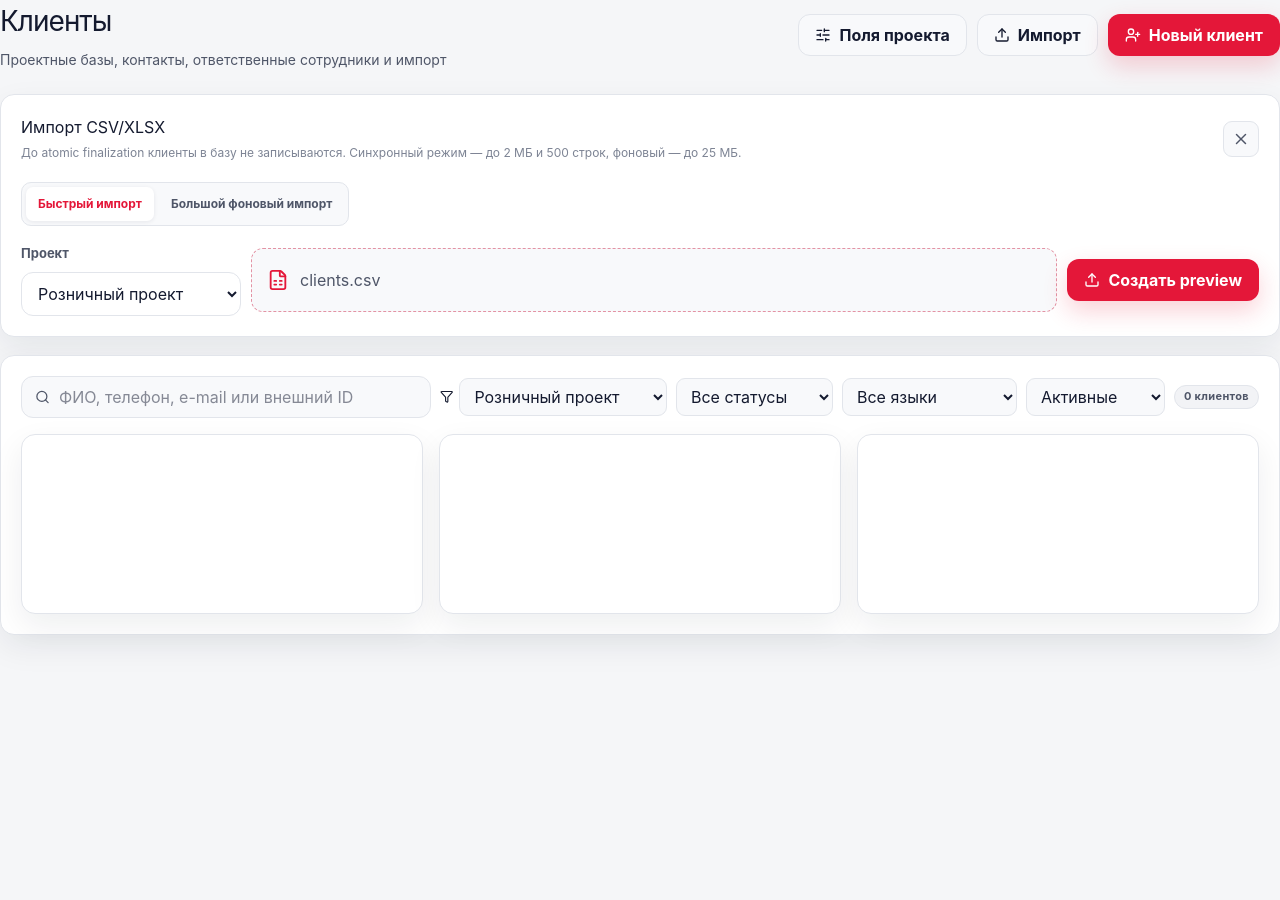
it: customer workspace › uploads a CSV as FormData and renders preview status
Earlier steps of the test are not shown.
Click the button "Создать preview".
click(1163, 280)  # box [1067,259,1259,301]
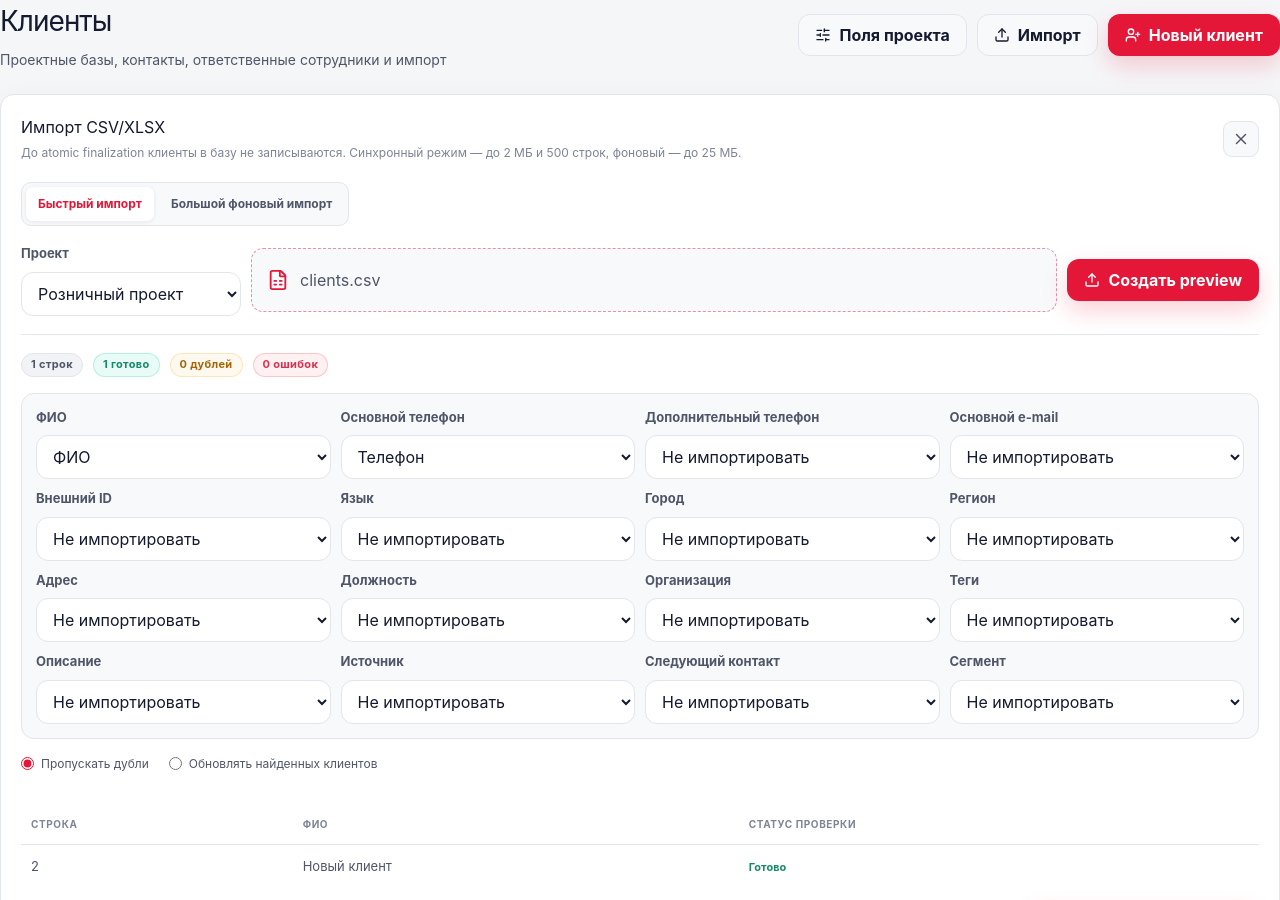
Result: the text "1 готово" is shown at [93,352,160,376]
